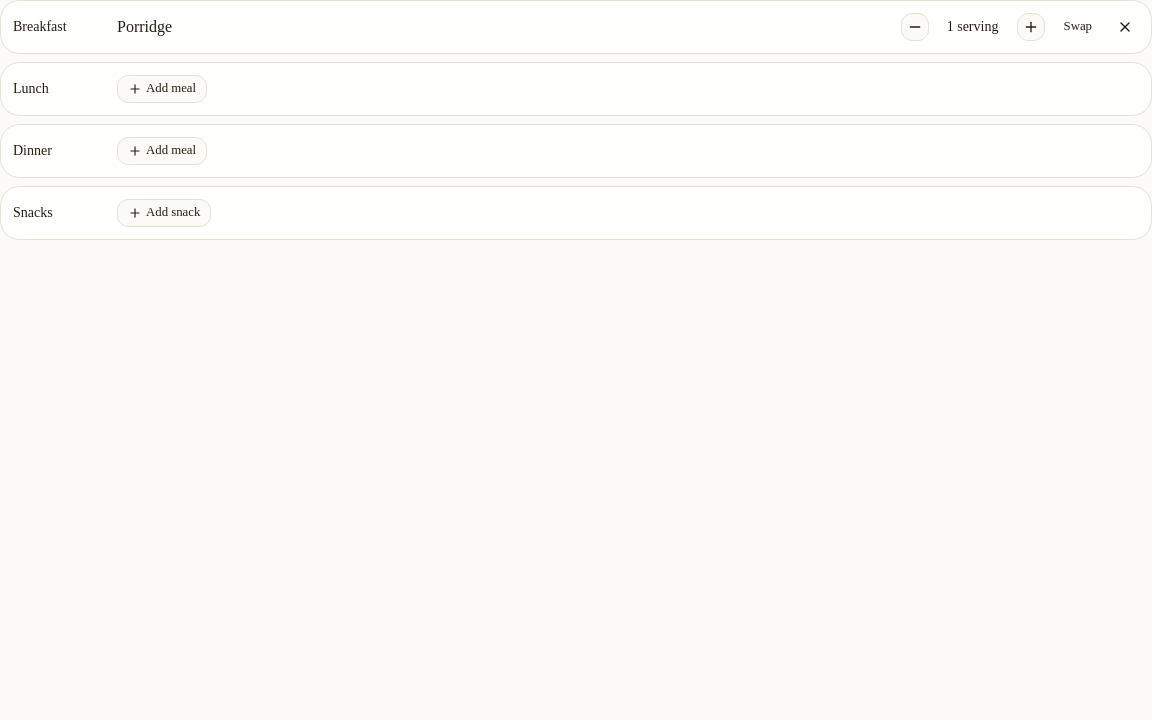
Test: DayMeals › puts the old meal back and toasts the reason when the server refuses the swap
This screenshot has width=1152, height=720.
Click the button with aria-label "Swap breakfast meal".
click(1078, 27)  # box [1053,13,1103,41]
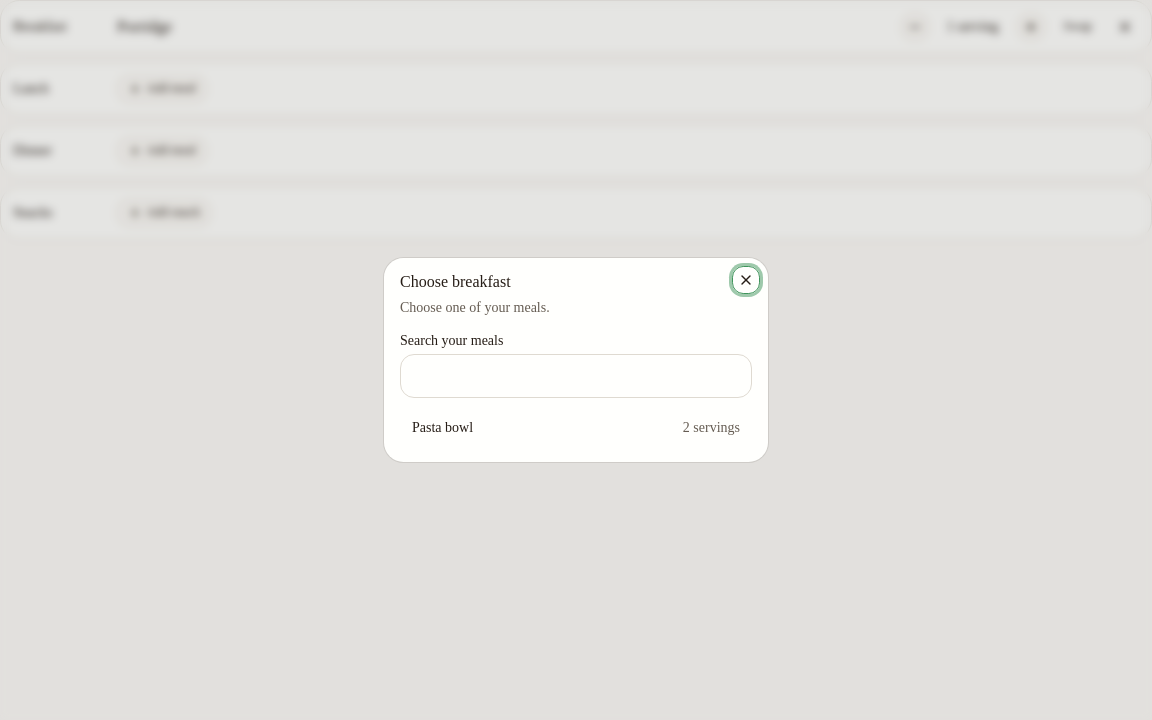
Click the button "Pasta bowl 2 servings".
click(443, 428)  # box [400,410,752,446]
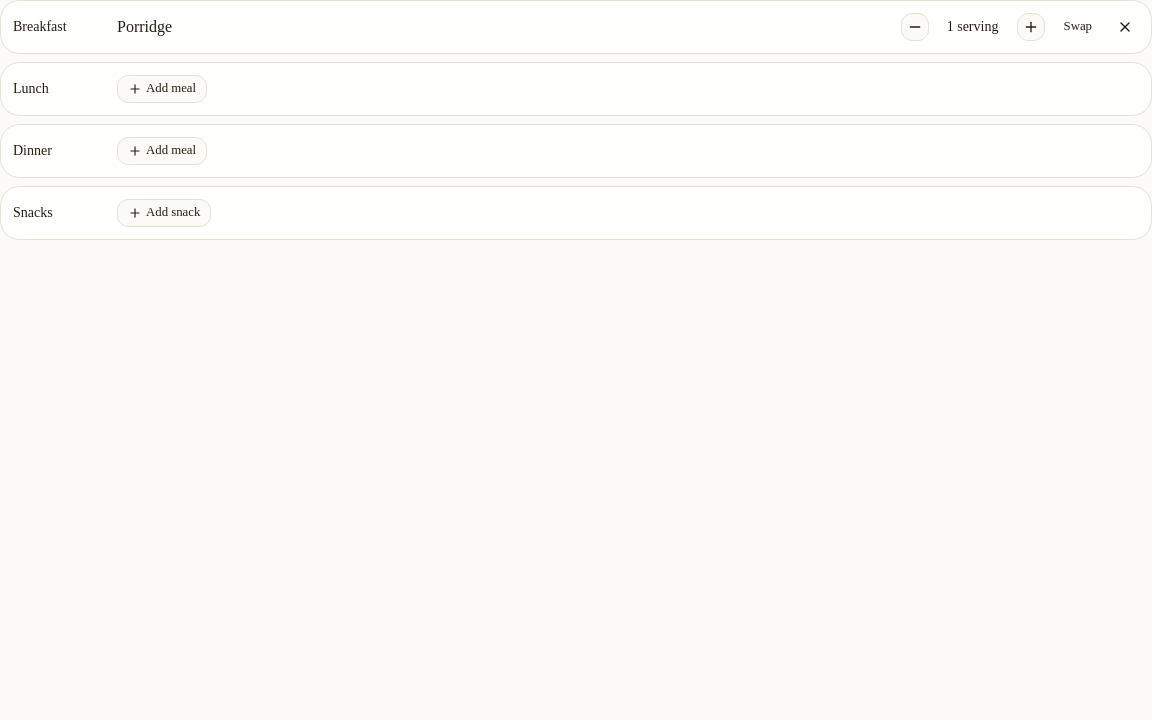
Check: the link "Porridge" is shown, box [117,18,172,35]
Check: the button "Pasta bowl" is gone
